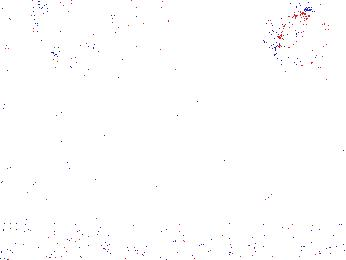moon jellyfish: (96, 1, 170, 75), (296, 1, 346, 73), (28, 1, 84, 64), (273, 9, 330, 67), (54, 40, 107, 100), (1, 44, 32, 100)
